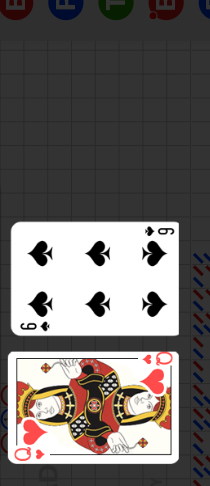6S: (19, 319, 53, 332), (143, 226, 176, 238)
